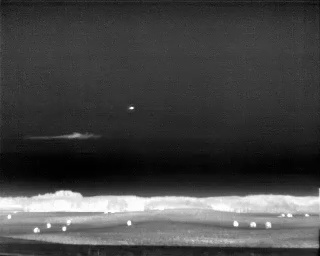BIRD: (127, 104, 136, 113)
